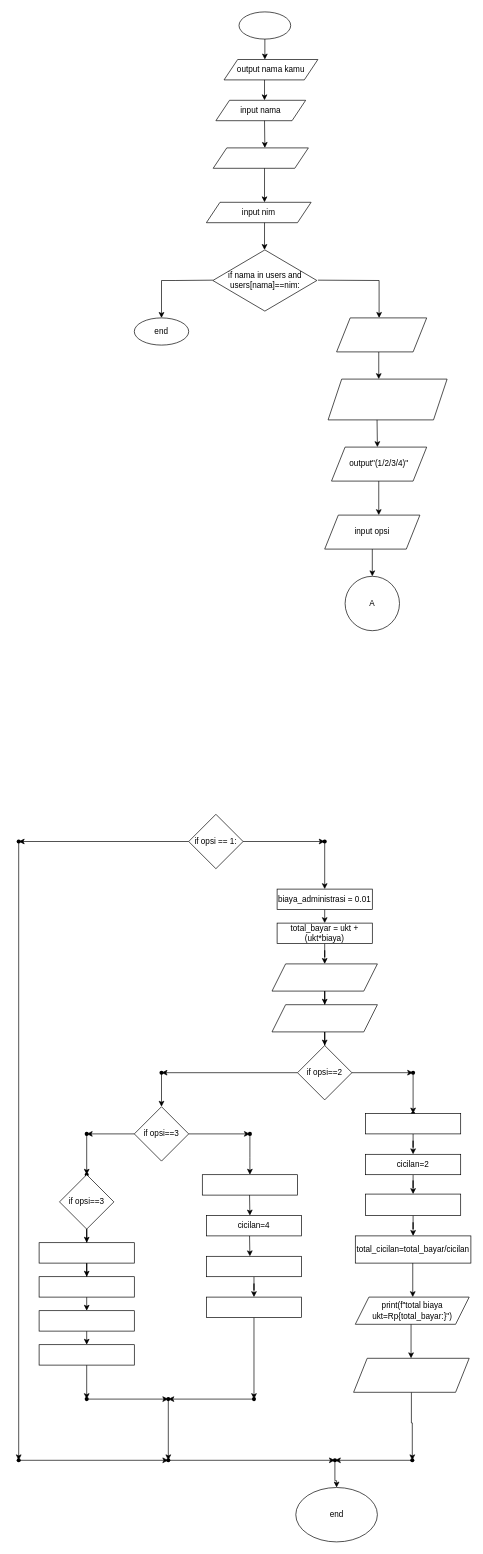
Some shapes in this 483 by 1554 pixel diagram are drawn without their labels. The centre of each missing label's shape, as x and y in pixels:
biaya_admistrasi=0.05: [413,1123]
biaya_admistrasi=0.08: [250,1184]
output nim kamu: [260,157]
output"program pembayaran ukt dimulai": [387,399]
output"selamat datang di program kami": [381,334]
print(f"cicilan perpriode=Rp{cicilan:}"): [411,1375]
print(f"total biaya ukt = Rp{total_bayar:}"): [324,977]
start: [264,25]
total_bayar=ukt+(ukt*biaya admistrasi): [413,1204]
